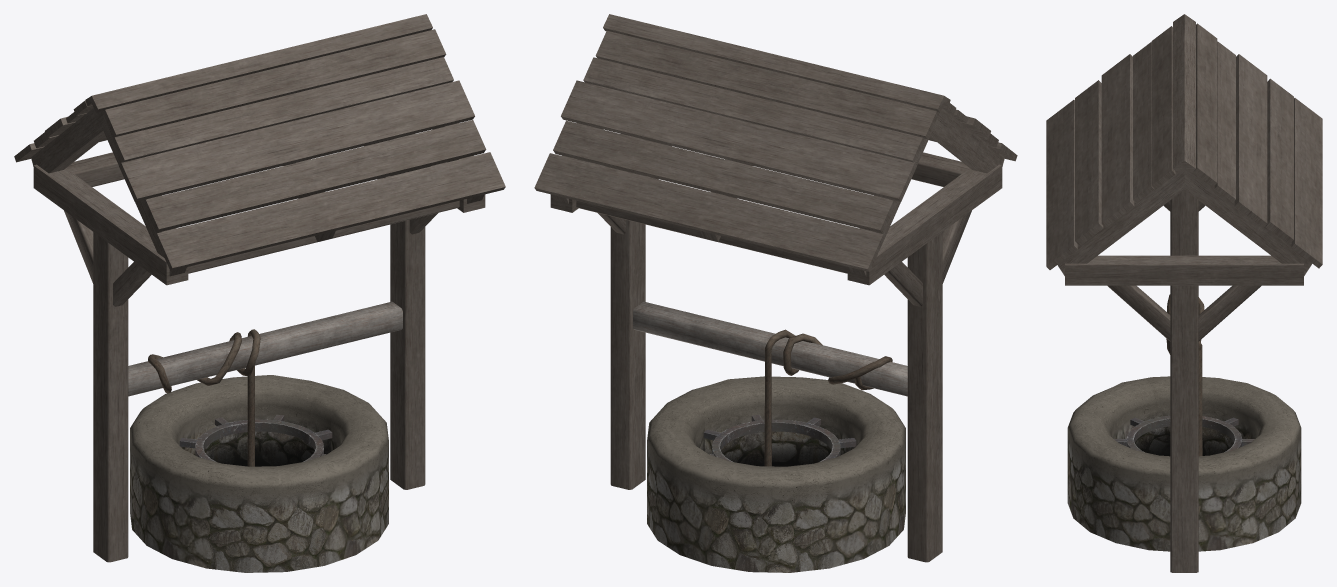
The model's file is well2.fbx.
The picture shows the model from 3 angles, left to right: view 1: azimuth 30°, elevation 25°; view 2: azimuth 150°, elevation 25°; view 3: azimuth 270°, elevation 25°; orthographic projection. The views are drawn at different scales.
Visible parts, largest first — view 1: well2; view 2: well2; view 3: well2.
Part boxes in pixels (left/top/right/bottom): well2: left=14, top=14, right=505, bottom=572; well2: left=534, top=14, right=1017, bottom=572; well2: left=1046, top=14, right=1322, bottom=572.
Bounding box in the file's own units: 403 × 528 × 318.
